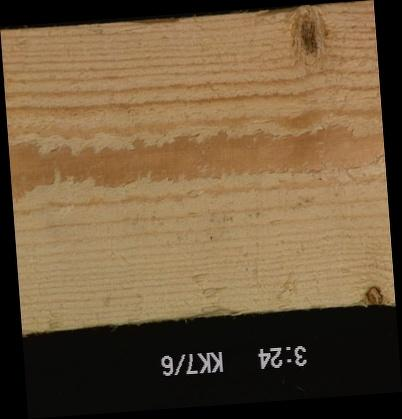edge_knot: (362, 284, 385, 306)
wave: (123, 17, 184, 35)
